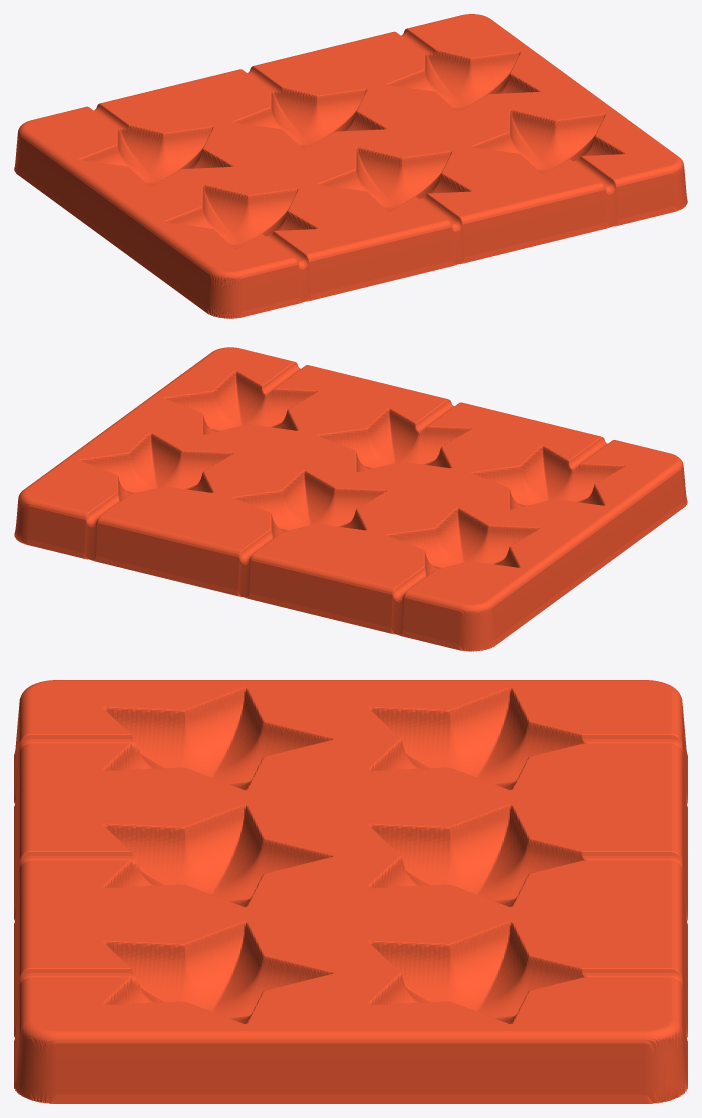
File: mold.glb
3 renders of one model, top to bottom at view 1: azimuth 30°, elevation 25°; view 2: azimuth 150°, elevation 25°; view 3: azimuth 270°, elevation 25°, orthographic. The views are drawn at different scales.
Parts seen in each view (by area): view 1: geometry_0; view 2: geometry_0; view 3: geometry_0.
Boxes of the visible parts, bbox=[...] form: geometry_0: bbox=[14, 14, 687, 318]; geometry_0: bbox=[14, 347, 687, 651]; geometry_0: bbox=[14, 680, 687, 1103].
Bounding box in the file's own units: 0.1824 × 0.0155 × 0.1428.
